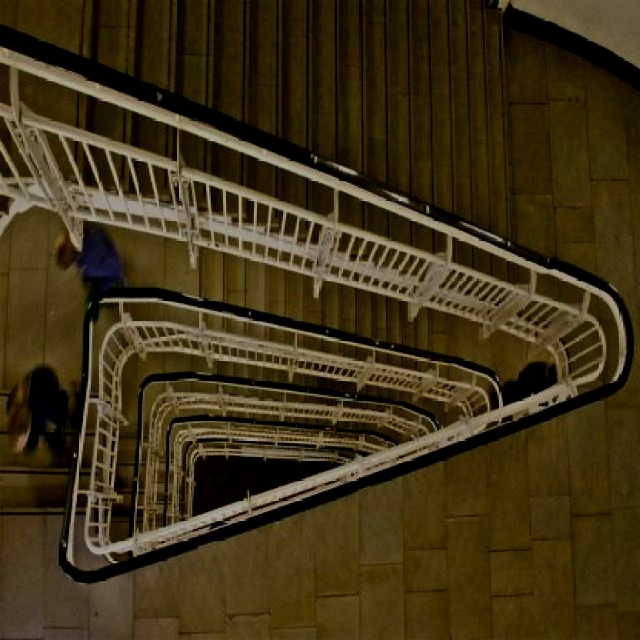stair: (0, 0, 514, 535)
